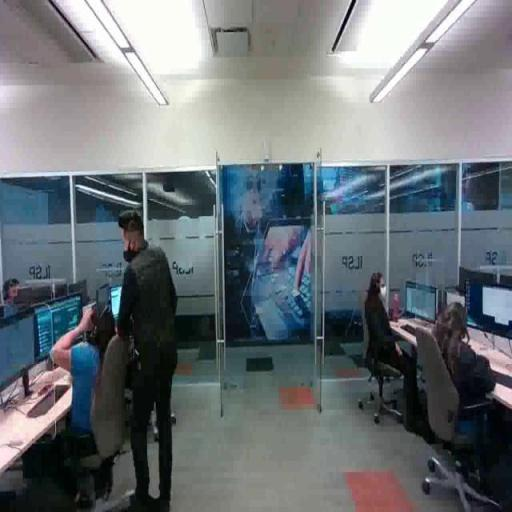person: (116, 207, 179, 512)
